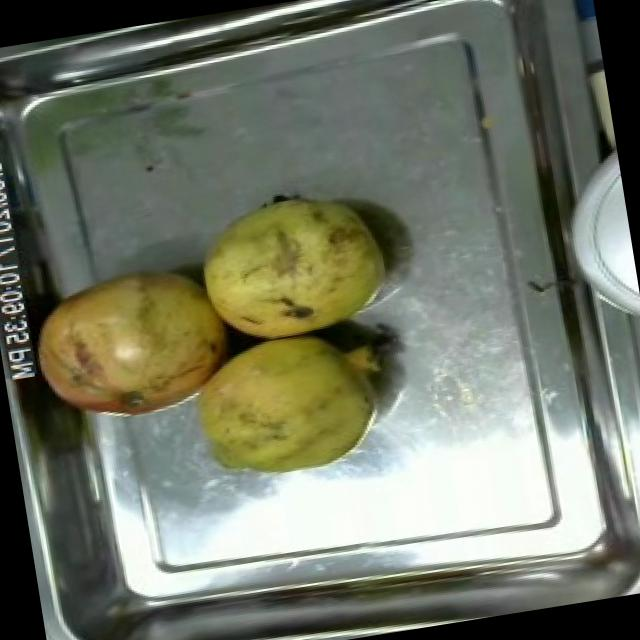fruit: (171, 314, 405, 492), (180, 172, 406, 352), (20, 251, 242, 433)
